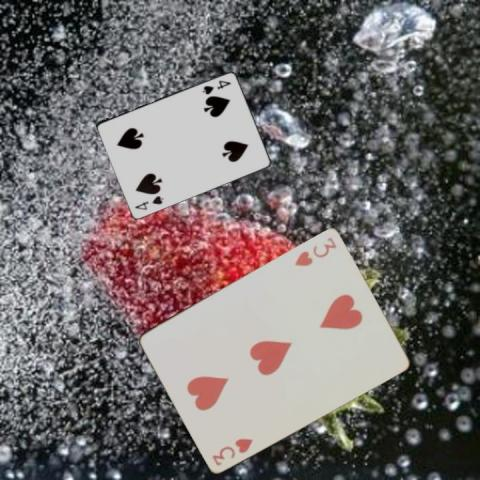3h: (291, 234, 338, 268), (209, 434, 255, 466)
4s: (199, 78, 232, 96), (132, 193, 165, 211)
